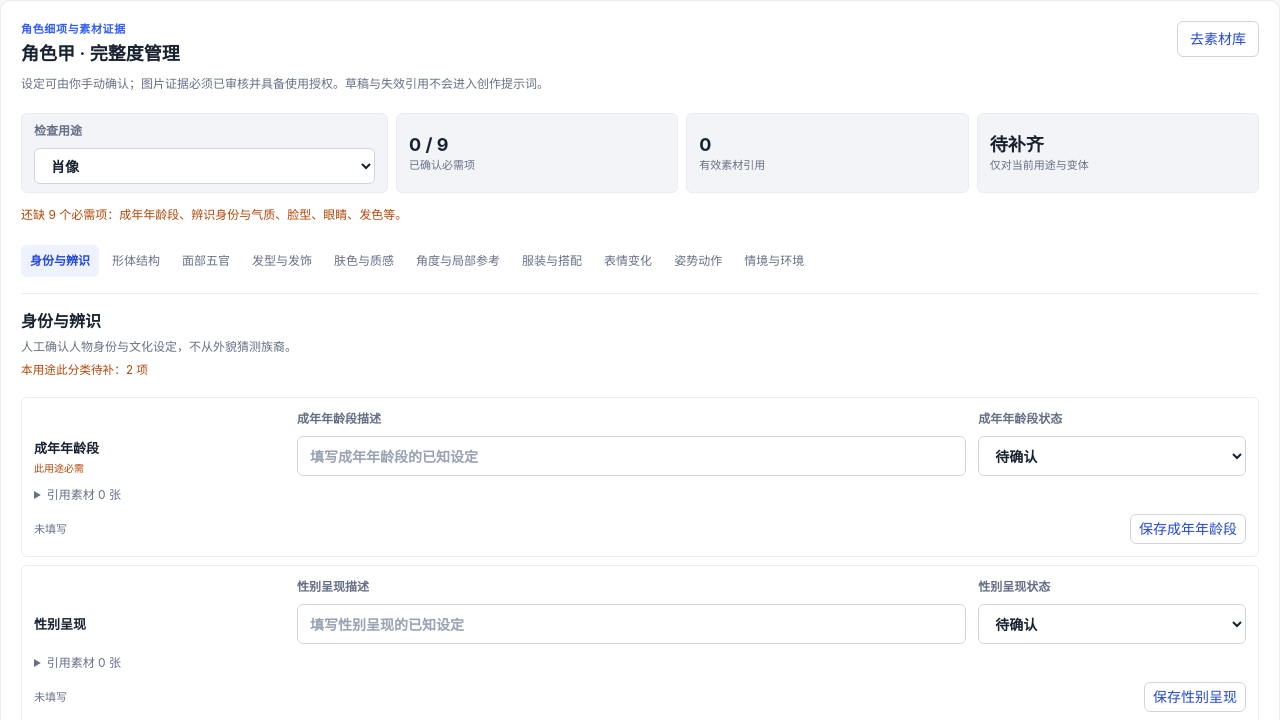
Scenario: 选中的变体已有草稿时可继续编辑该草稿，不显示继承的基础配置
The width and height of the screenshot is (1280, 720).
Click the button "服装与搭配".
click(552, 261)  # box [513,245,591,277]
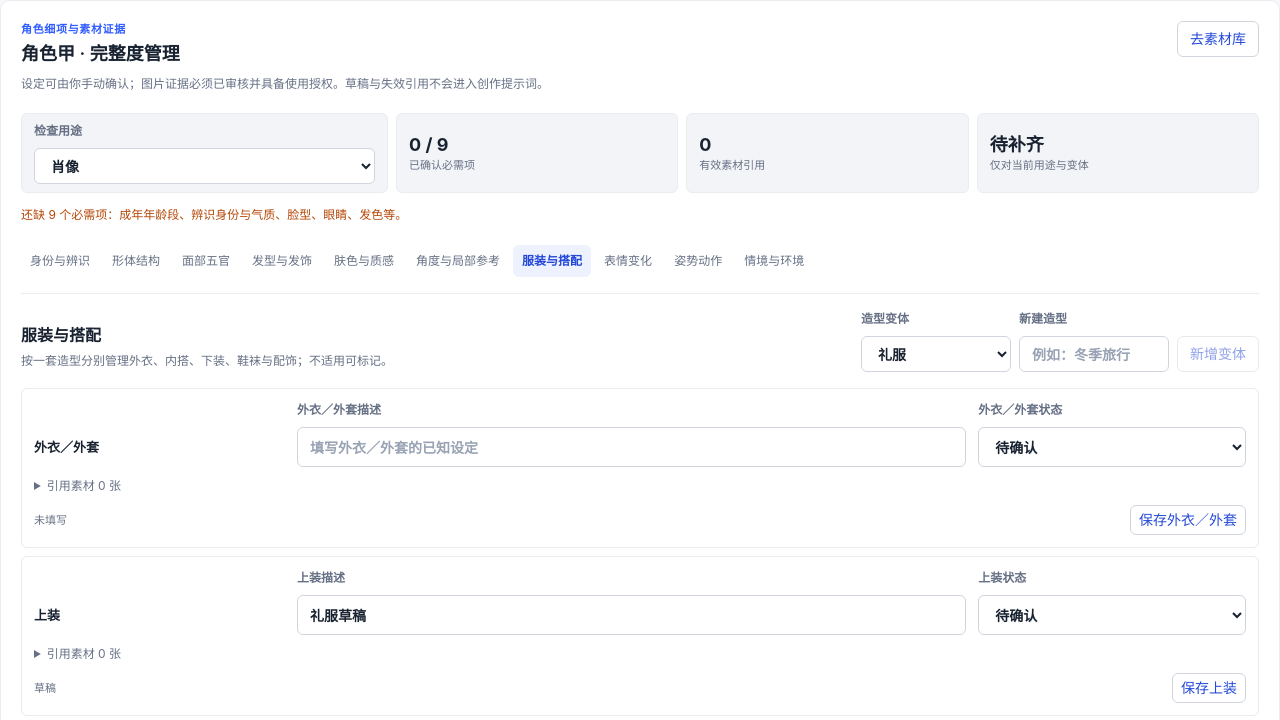
Now the field labelled "上装描述" holds "礼服草稿", box [297,595,966,635]
